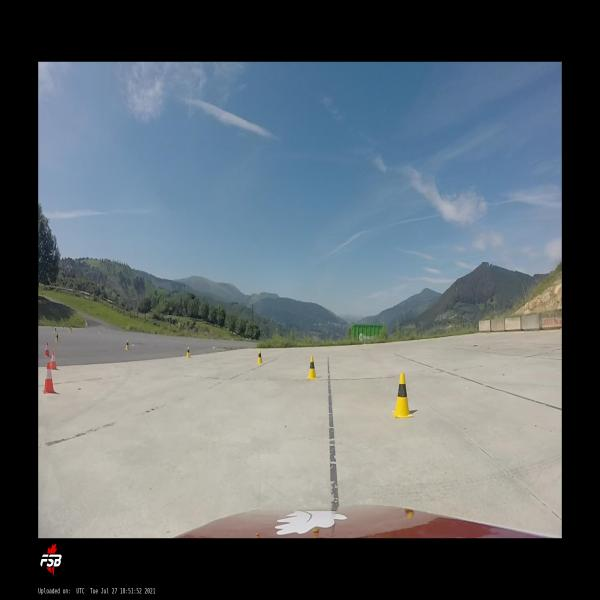orange_cone: (42, 361, 57, 394), (50, 350, 59, 370), (44, 342, 51, 358)
yellow_cone: (392, 373, 414, 418), (307, 356, 317, 379), (257, 349, 263, 364), (55, 333, 60, 343), (125, 340, 130, 350), (186, 346, 190, 358), (70, 327, 72, 333)
